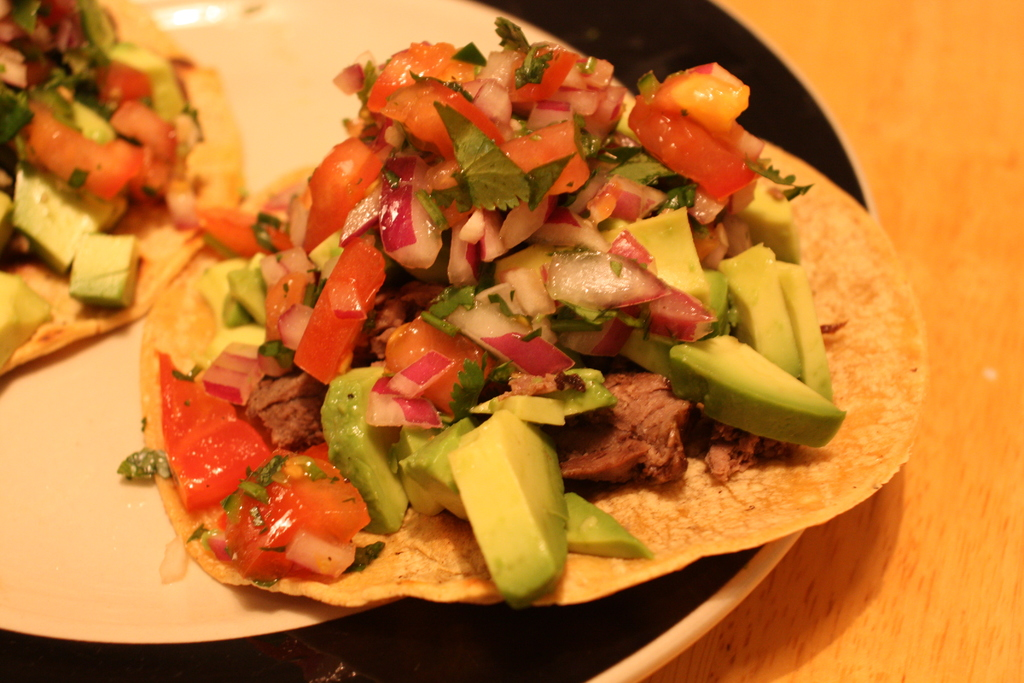taco: (114, 18, 849, 611), (0, 0, 243, 374)
